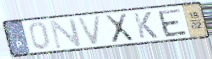0: (28, 20, 52, 52)
E: (156, 7, 190, 38)
K: (132, 11, 160, 40)
N: (48, 17, 84, 50)
V: (75, 14, 103, 47)
X: (103, 12, 136, 45)
